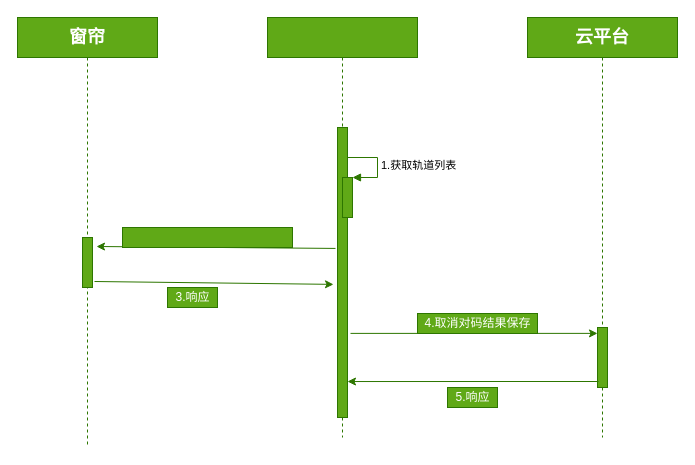
Image size: 695x465. Some labels were removed from this diagram. Each missing label, with the box of its shape:
2.发送取消对码指令给转接器: (122, 226, 292, 248)
APP: (266, 16, 418, 438)
